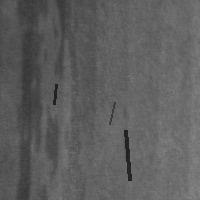inclusion: (15, 1, 62, 198), (50, 1, 73, 82), (117, 106, 134, 163), (123, 128, 131, 182), (107, 100, 116, 126), (52, 82, 58, 106)
